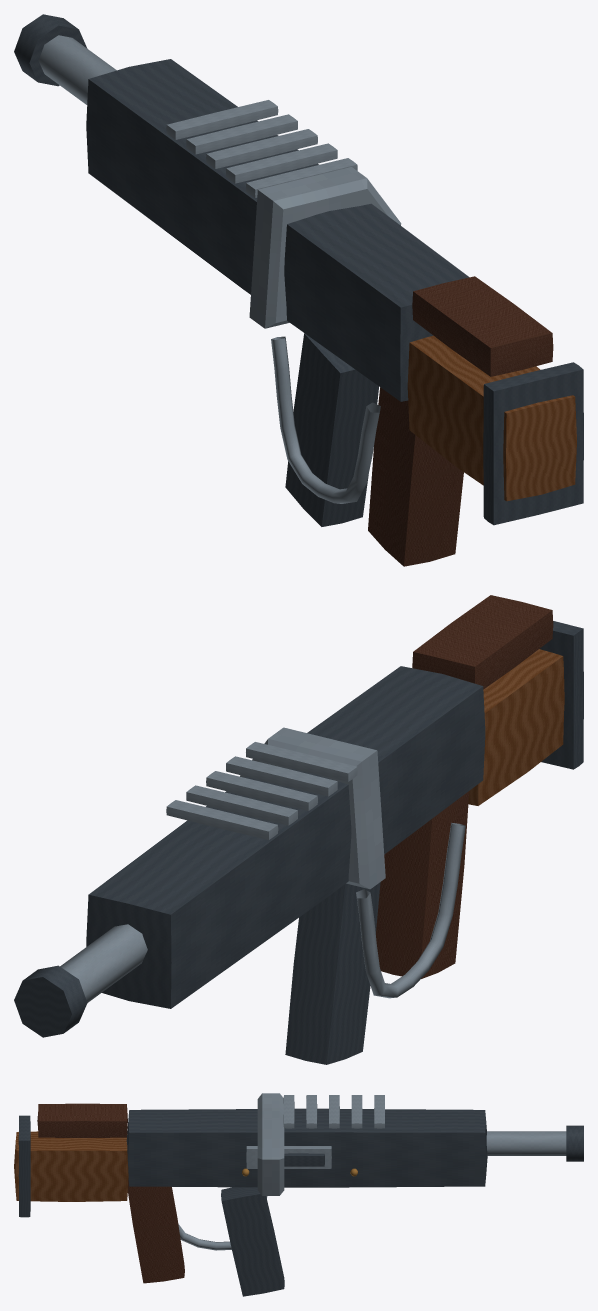
The model's file is pulse-rifle.lod2.glb.
3 renders of one model, top to bottom at view 1: azimuth 30°, elevation 25°; view 2: azimuth 150°, elevation 25°; view 3: azimuth 270°, elevation 25°, orthographic. The views are drawn at different scales.
Visible parts, largest first — view 1: iron.0, wood.8, leather.1, iron.9, leather.17, steel.10, iron.18, steel.11, steel.2, iron.16, steel.3, steel.5 (+3 smaller); view 2: iron.0, iron.9, leather.1, wood.8, leather.17, steel.10, steel.11, iron.16, iron.18, steel.2, steel.3, steel.6 (+3 smaller); view 3: iron.0, wood.8, iron.9, leather.1, leather.17, steel.10, steel.2, iron.18, steel.12, iron.16, iron.13, steel.11 (+5 smaller).
Part boxes in pixels (x1,y1,x2,y2): iron.0: (86,59,469,401); wood.8: (407,335,576,501); leather.1: (368,387,463,566); iron.9: (285,333,378,526); leather.17: (412,276,553,376); steel.10: (249,167,401,328); iron.18: (483,362,583,525); steel.11: (271,336,380,503); steel.2: (38,35,116,104); iron.16: (14,14,87,86); steel.3: (166,100,278,139); steel.5: (206,129,317,168); iron.0: (86,666,485,1008); iron.9: (285,882,380,1064); leather.1: (376,791,469,978); wood.8: (468,649,564,805); leather.17: (412,595,553,689); steel.10: (240,727,385,889); steel.11: (356,822,465,998); iron.16: (14,965,87,1037); iron.18: (539,621,583,769); steel.2: (60,924,147,1002); steel.3: (166,800,278,839); steel.6: (226,756,337,796); iron.0: (126,1108,487,1187); wood.8: (14,1131,128,1201); iron.9: (221,1187,284,1296); leather.1: (127,1177,184,1283); leather.17: (37,1103,127,1137); steel.10: (257,1093,284,1195); steel.2: (486,1131,566,1155); iron.18: (18,1115,30,1217); steel.12: (246,1146,331,1168); iron.16: (566,1125,583,1161); iron.13: (284,1153,324,1166); steel.11: (178,1196,267,1250).
Bounding box in the file's own units: 0.1785 × 0.403 × 1.13.
5 materials, 5 textured.
